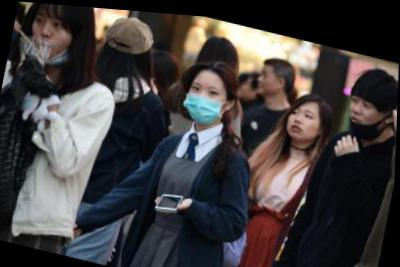NONE: (285, 97, 321, 138), (256, 61, 278, 92)
OK: (183, 72, 230, 125)
WRONG: (28, 8, 78, 67), (348, 84, 388, 134)
